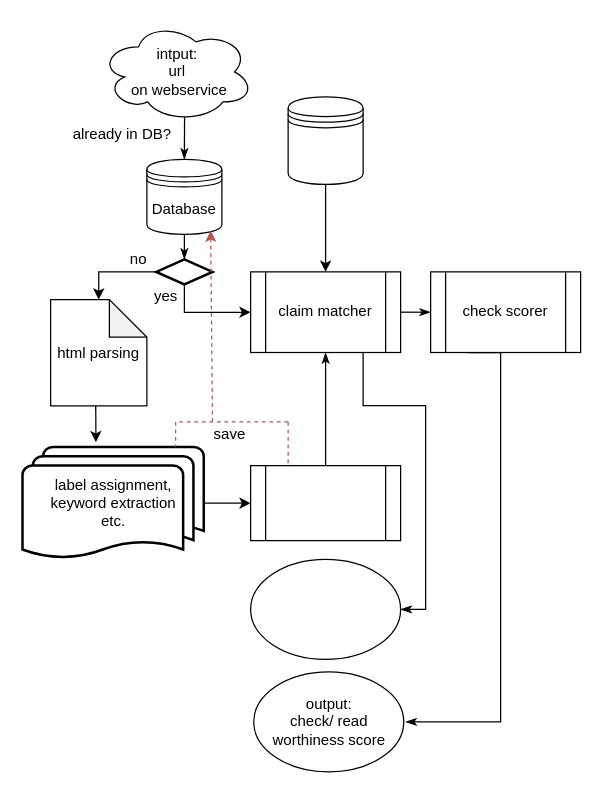
The diagram is 603 pixels wide and 794 high, and some of its shapes have lost their labels. Here are the shapes that lost their labels. From the top down, the centre of each, then its label:
At point 325,140: "Database verified claims".
At point 325,502: "claim extractor".
At point 325,608: "output: supportive verified claims".
